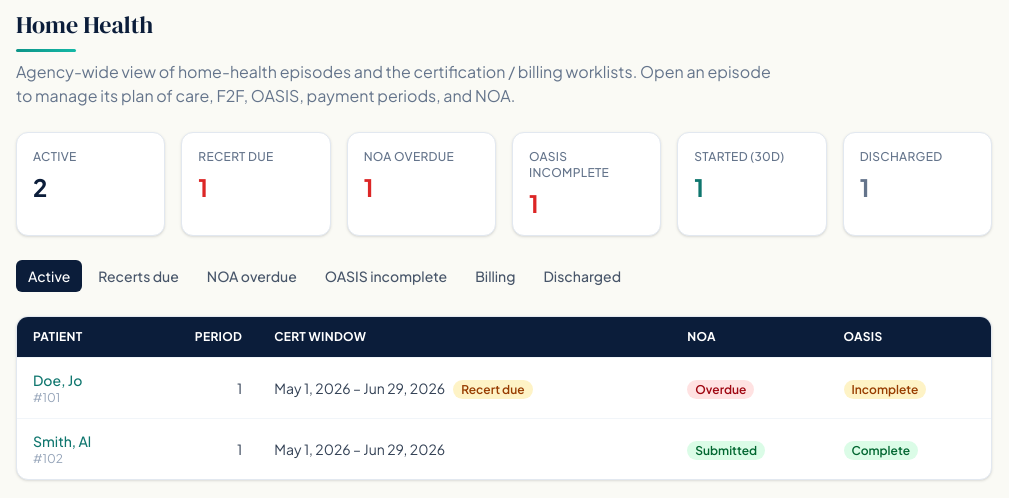
it: HomeHealthDashboardPage › billing tab loads the billing worklist table
Expected: the row with test id "hh-row-101" is shown, [17,358,991,418]
What coordinates should you click on to do the following:
click the tab with test id "hh-tab-billing"
I would click on:
 (495, 276)
Its box is [463,260,528,292].
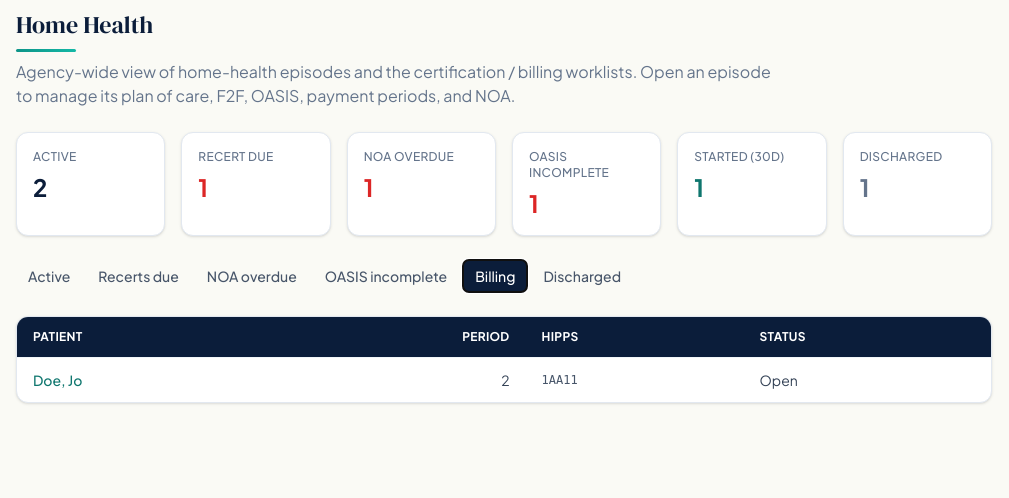
Result: the table with test id "hh-billing-table" is shown at [17,317,991,402]
Result: the row with test id "hh-billing-5" is shown at [17,358,991,402]
